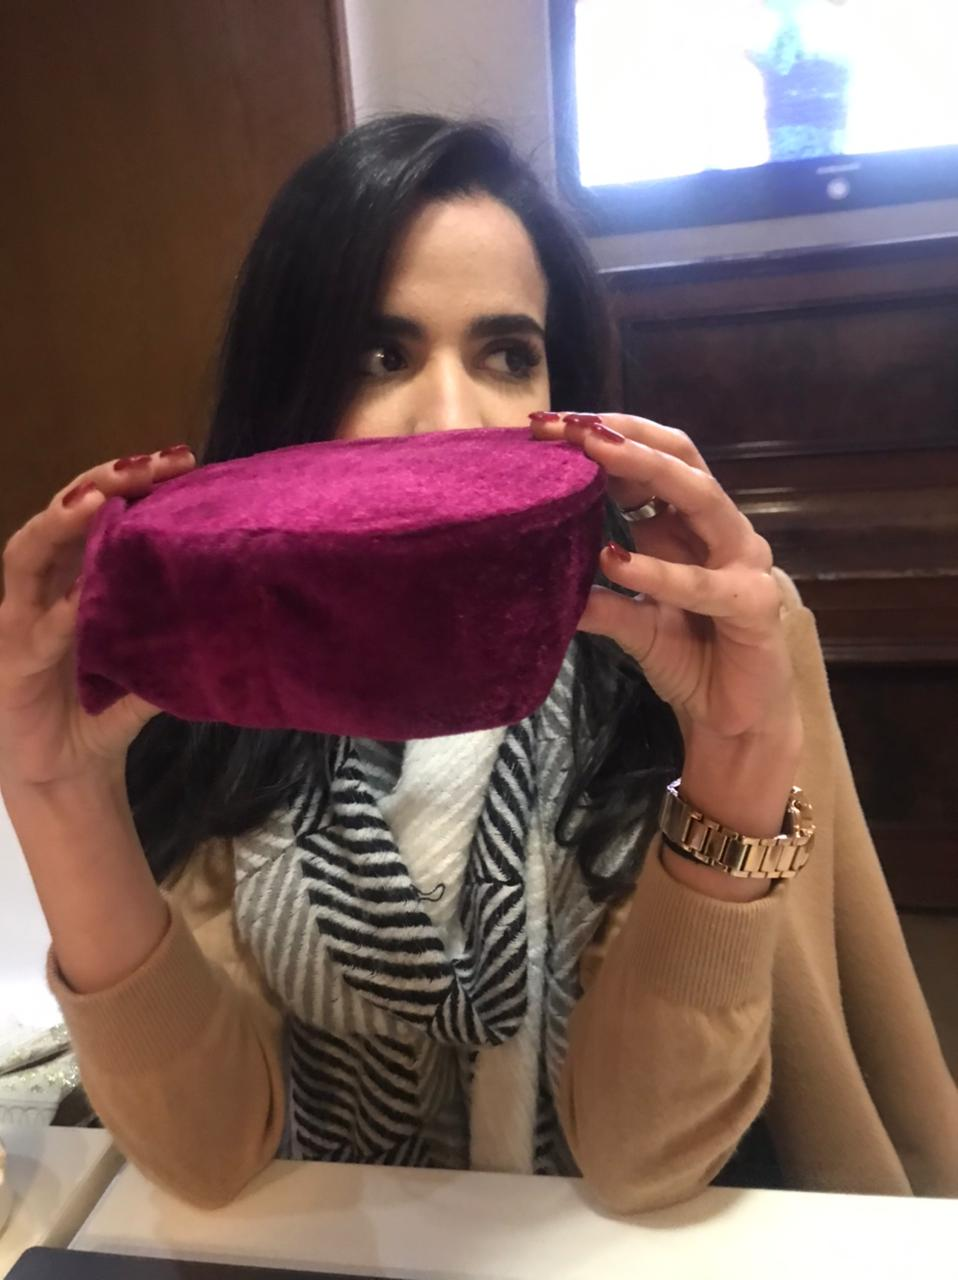chachia: (71, 434, 715, 748)
